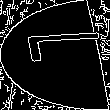L_E: (7, 37, 103, 73)
